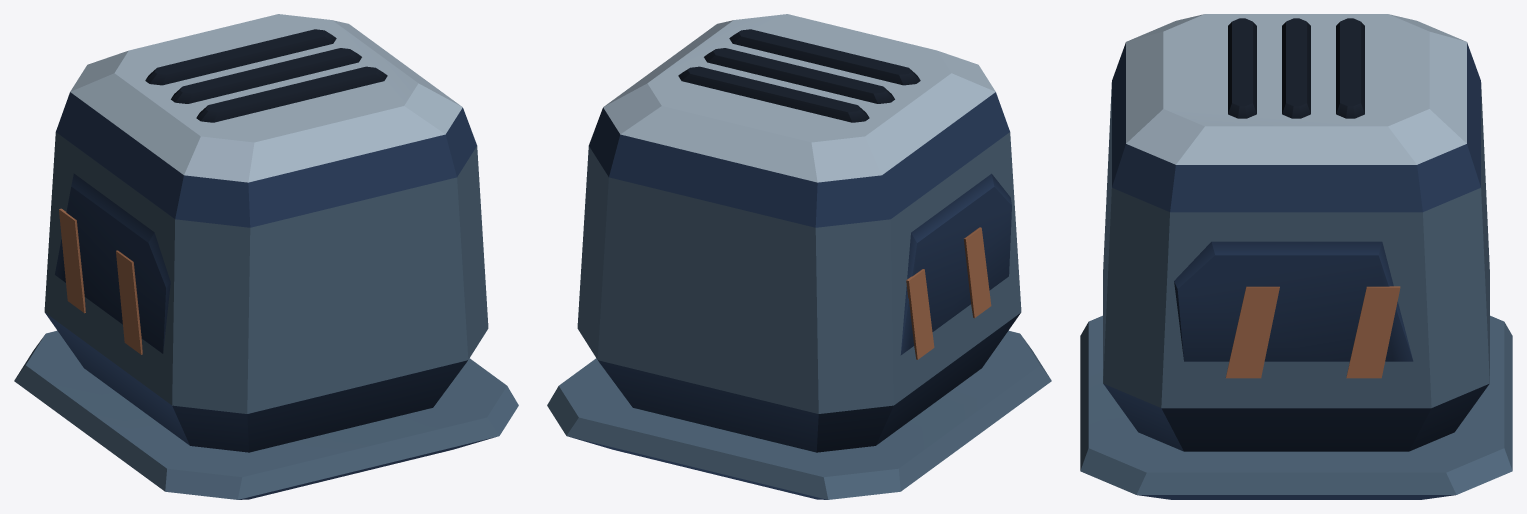
File: wall.glb
3 renders of one model, left to right at view 1: azimuth 30°, elevation 25°; view 2: azimuth 150°, elevation 25°; view 3: azimuth 270°, elevation 25°, orthographic. The views are drawn at different scales.
Visible parts, largest first — view 1: wall; view 2: wall; view 3: wall.
Part boxes in pixels (<box>): wall: <box>14,14,518,499</box>; wall: <box>547,14,1051,499</box>; wall: <box>1080,14,1512,499</box>.
Size of the model in its own units: 1.04 by 0.961 by 1.04.
